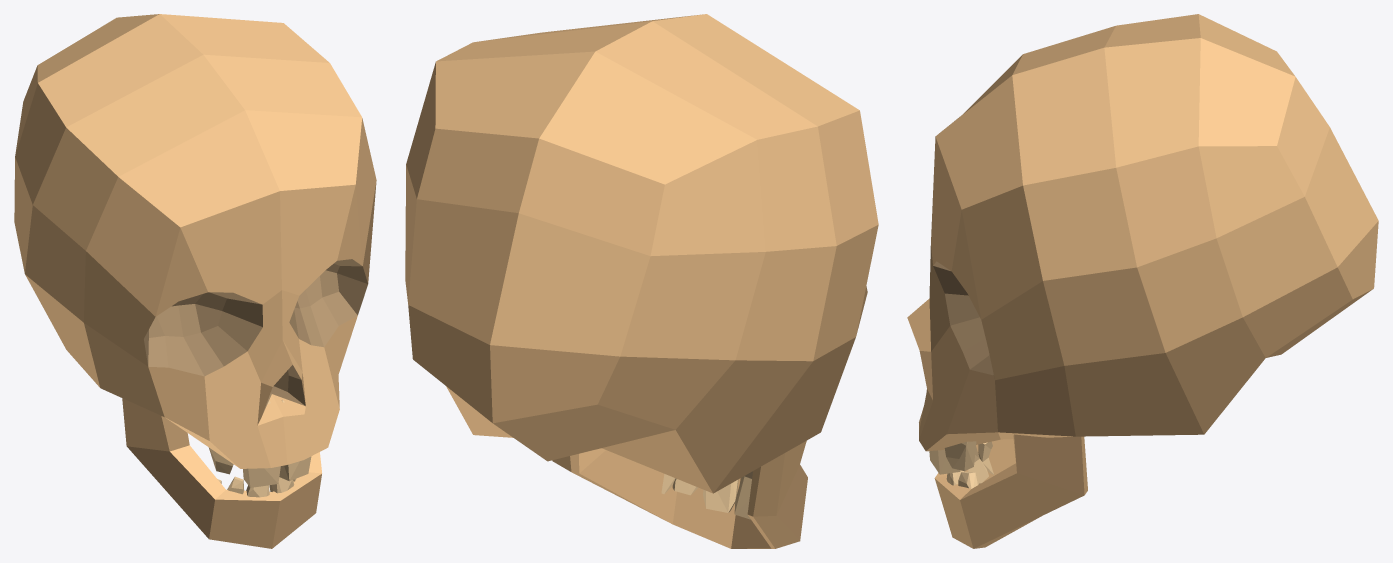
The model's file is WF_LP_HT_Props_Skull.002.fbx.
3 renders of one model, left to right at view 1: azimuth 30°, elevation 25°; view 2: azimuth 150°, elevation 25°; view 3: azimuth 270°, elevation 25°, orthographic. The views are drawn at different scales.
Visible parts, largest first — view 1: WF_LP_HT_Props_Skull.002; view 2: WF_LP_HT_Props_Skull.002; view 3: WF_LP_HT_Props_Skull.002.
Boxes of the visible parts, box(x1,y1,x2,y2) form: WF_LP_HT_Props_Skull.002: box(14, 14, 376, 548); WF_LP_HT_Props_Skull.002: box(405, 14, 878, 548); WF_LP_HT_Props_Skull.002: box(907, 14, 1378, 548).
Bounding box in the file's own units: 0.2439 × 0.3416 × 0.2894.
